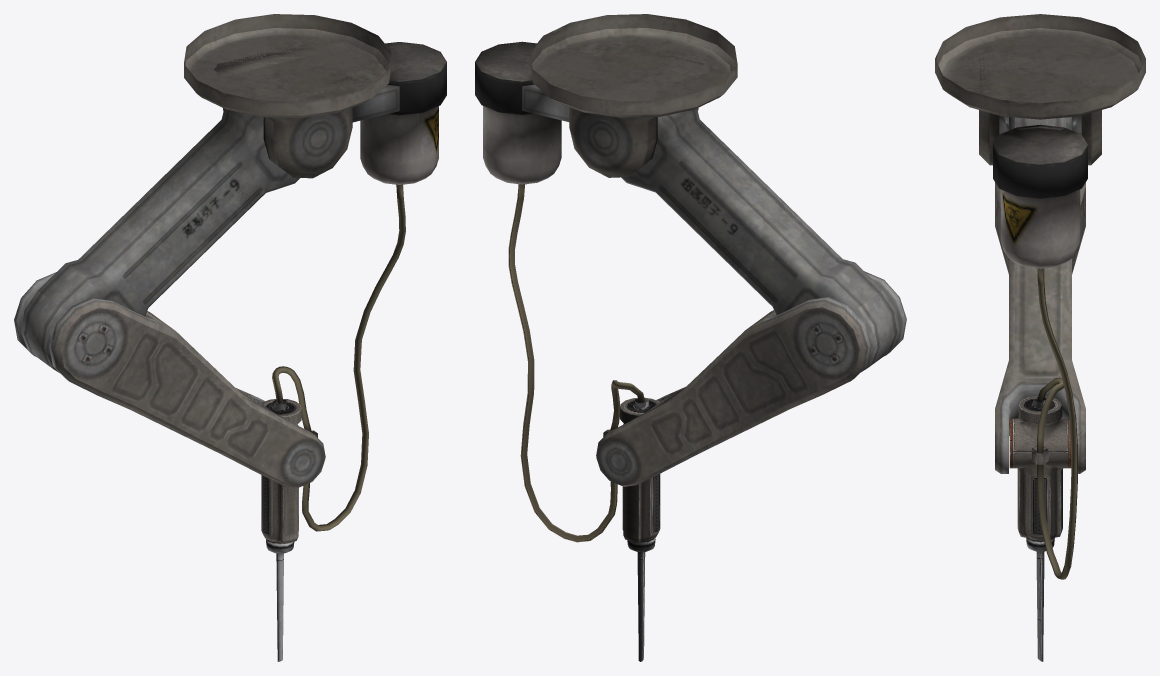
Rendered from 03_02_biomech_test_incubator_robot_arm.dae.
The picture shows the model from 3 angles, left to right: view 1: azimuth 30°, elevation 25°; view 2: azimuth 150°, elevation 25°; view 3: azimuth 270°, elevation 25°; orthographic projection.
Visible parts, largest first — view 1: uvl3104_polySurface26, uvl3104_polySurface25, uvl3104_pCylinder1, uvl3104_polySurface28, uvl3104_pCylinder7, socket_soma; view 2: uvl3104_polySurface26, uvl3104_polySurface25, uvl3104_pCylinder1, uvl3104_polySurface28, uvl3104_pCylinder7, socket_soma; view 3: uvl3104_pCylinder1, uvl3104_polySurface28, uvl3104_polySurface26, socket_soma, uvl3104_pCylinder7, uvl3104_polySurface25.
Part boxes in pixels (<box>): uvl3104_polySurface26: <box>14,272,325,488</box>; uvl3104_polySurface25: <box>21,108,299,372</box>; uvl3104_pCylinder1: <box>184,14,391,118</box>; uvl3104_polySurface28: <box>214,42,446,185</box>; uvl3104_pCylinder7: <box>272,185,405,531</box>; socket_soma: <box>261,399,301,661</box>; uvl3104_polySurface26: <box>596,271,906,486</box>; uvl3104_polySurface25: <box>621,108,899,372</box>; uvl3104_pCylinder1: <box>530,14,737,117</box>; uvl3104_polySurface28: <box>475,41,704,184</box>; uvl3104_pCylinder7: <box>508,184,648,542</box>; socket_soma: <box>620,397,660,661</box>; uvl3104_pCylinder1: <box>935,14,1145,119</box>; uvl3104_polySurface28: <box>979,54,1101,268</box>; uvl3104_polySurface26: <box>995,182,1085,473</box>; socket_soma: <box>1009,396,1071,661</box>; uvl3104_pCylinder7: <box>1032,268,1077,579</box>; uvl3104_polySurface25: <box>1009,117,1071,130</box>.
Bounding box in the file's own units: 0.6748 × 0.9552 × 0.301.
